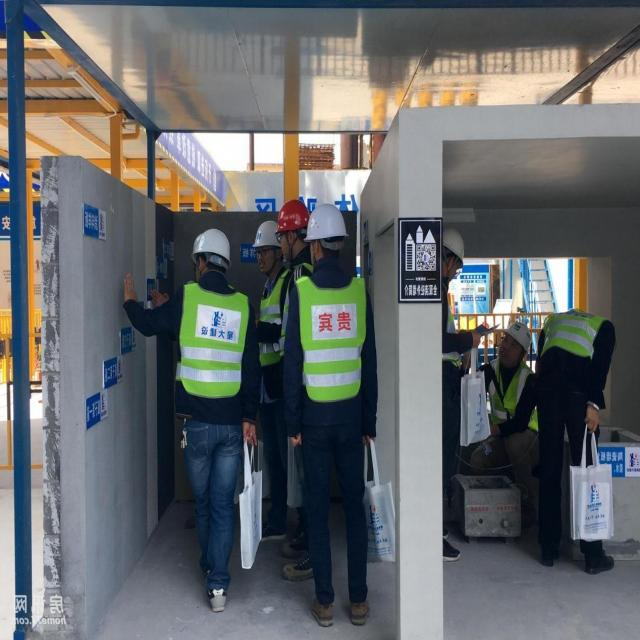Reflective-Jacket: (293, 275, 369, 405), (175, 284, 249, 400), (537, 306, 618, 363), (482, 358, 540, 436), (256, 264, 292, 366)
Safety-Helmet: (303, 201, 349, 242), (190, 224, 232, 263), (498, 316, 533, 356), (274, 196, 310, 234), (251, 217, 281, 251), (444, 226, 467, 263)
